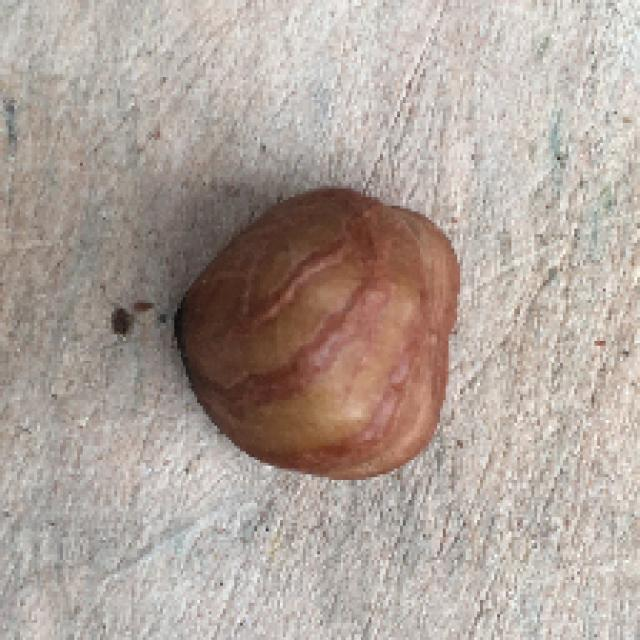hazelnut: (169, 179, 468, 490)
